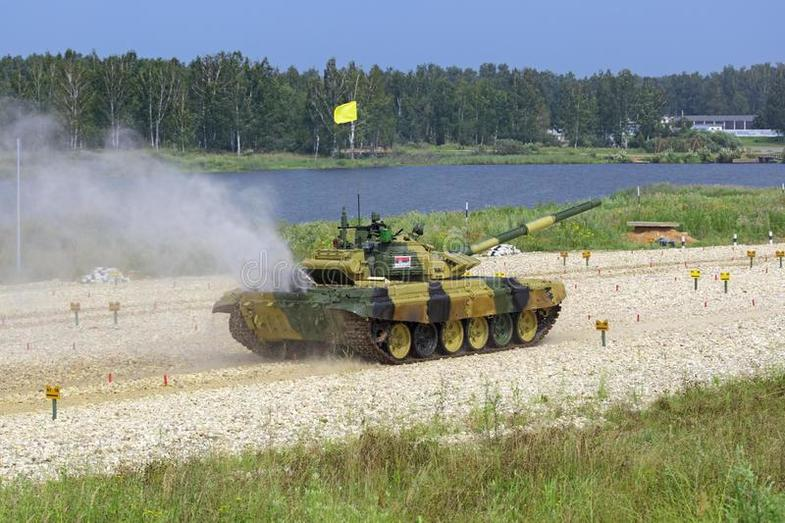t72: (231, 198, 608, 354)
